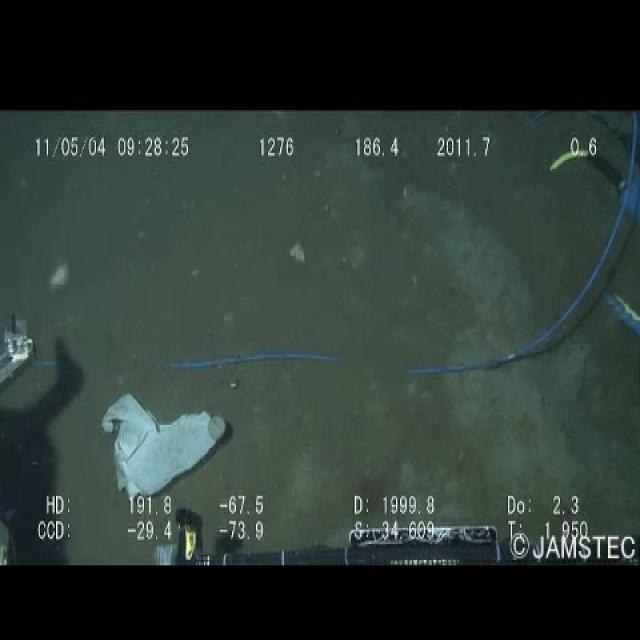plastic: (94, 388, 230, 500)
